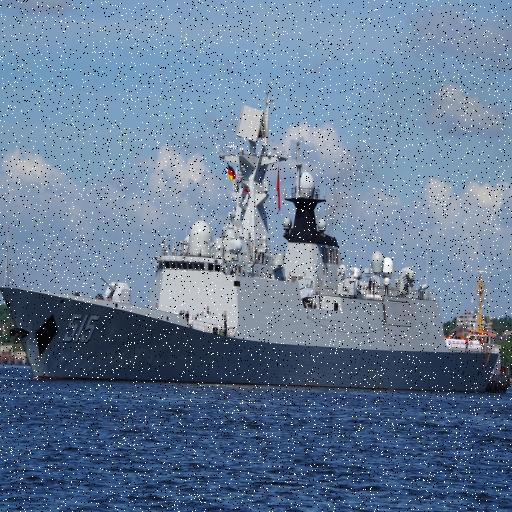Fragata: (3, 96, 506, 386)
